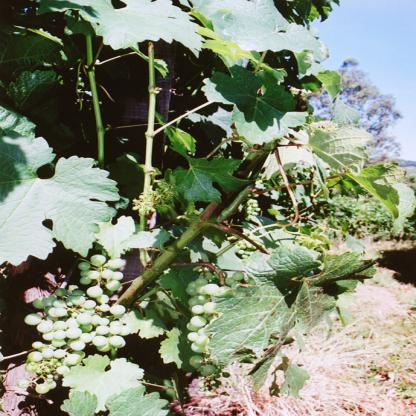Grape: (13, 254, 130, 394), (184, 272, 246, 396), (234, 238, 254, 257), (245, 198, 260, 218)
